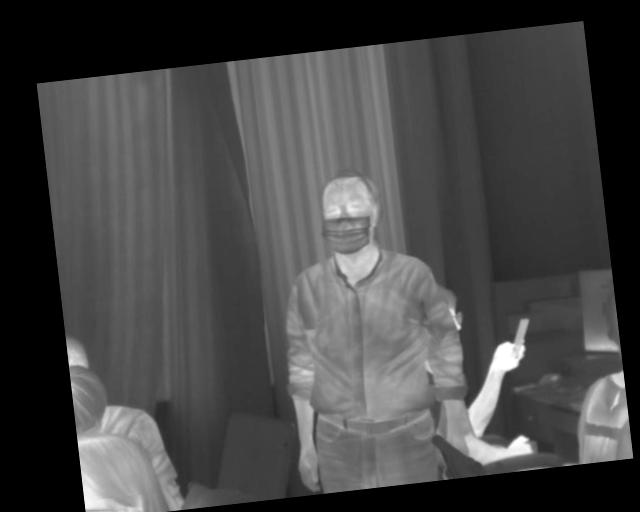face: (314, 166, 386, 257)
